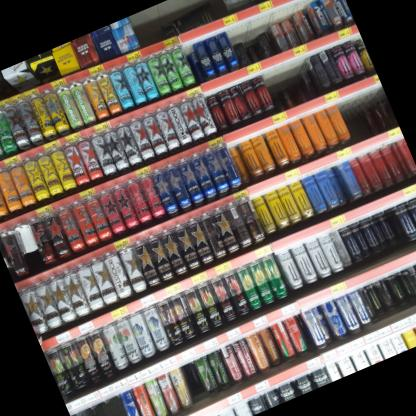empty_space: (337, 90, 376, 138), (261, 56, 301, 89), (134, 0, 177, 27), (102, 391, 130, 416), (89, 399, 117, 416), (177, 0, 214, 10), (75, 405, 105, 416)
